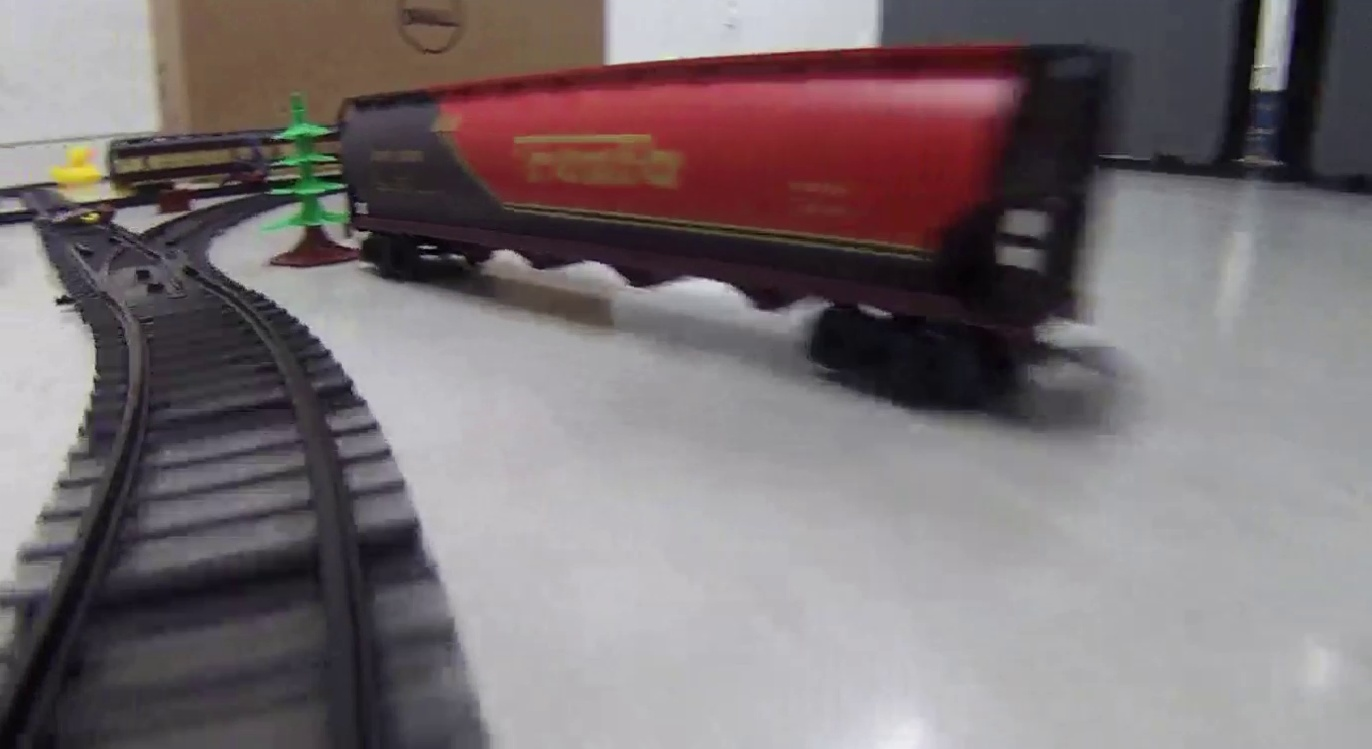tree: (262, 92, 353, 267)
